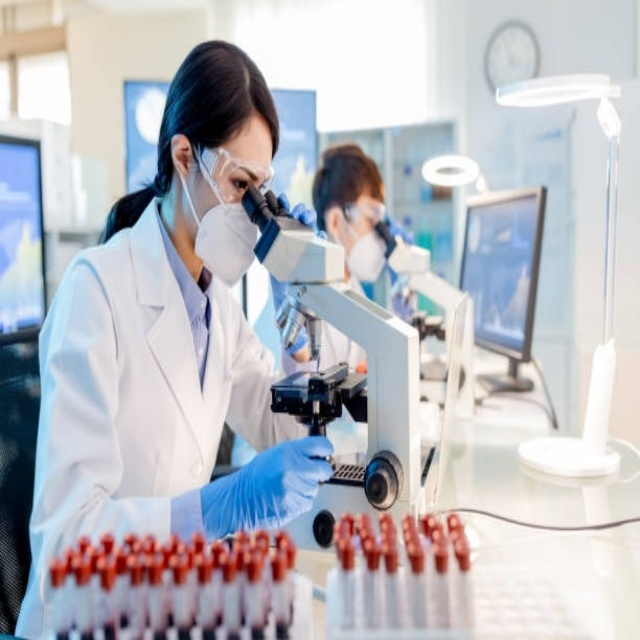Gafas: (194, 141, 275, 205), (342, 200, 388, 228)
Guantes: (196, 430, 339, 536), (278, 190, 326, 245)
Mascara: (186, 180, 256, 289), (343, 224, 388, 285)
